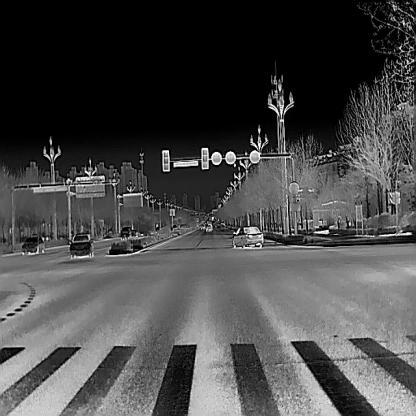car: (232, 226, 264, 249), (68, 233, 94, 259), (21, 235, 45, 254), (120, 225, 131, 239), (206, 223, 213, 231), (220, 222, 225, 228)
